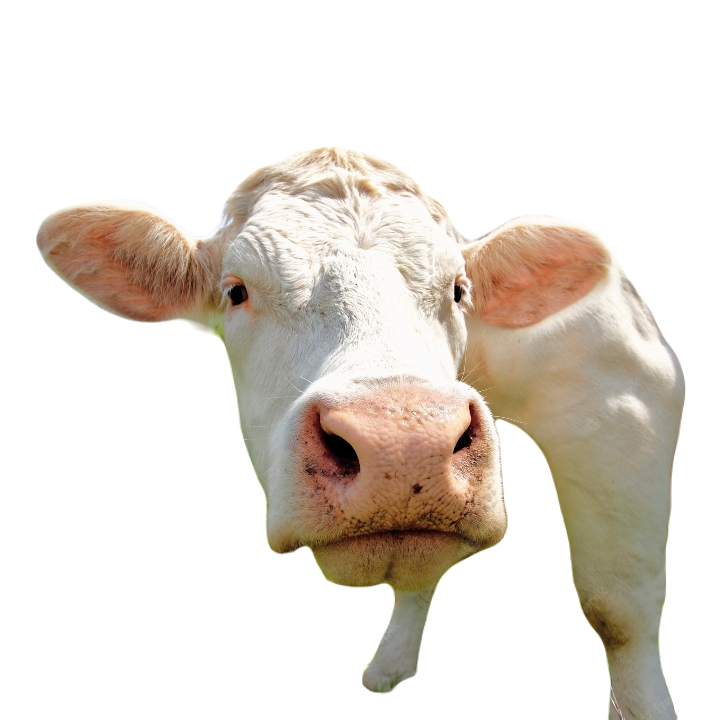Cow: (33, 150, 677, 719)
